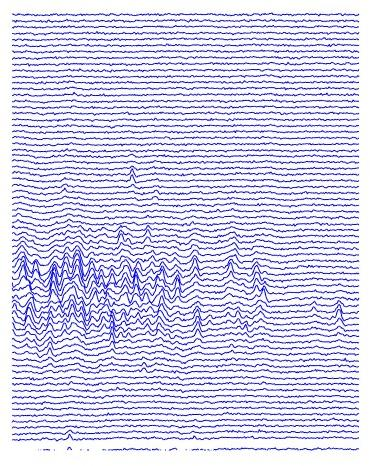defect: (153, 261, 171, 342), (247, 253, 270, 302), (63, 295, 88, 338), (47, 254, 58, 345), (87, 258, 110, 301), (102, 304, 119, 354), (189, 299, 208, 343), (224, 230, 241, 278), (24, 288, 36, 342), (185, 248, 204, 282), (231, 306, 249, 341), (326, 296, 346, 325), (71, 244, 83, 289), (18, 249, 31, 289), (130, 261, 143, 300), (118, 260, 130, 302), (171, 272, 186, 303), (252, 303, 267, 330), (30, 255, 43, 283), (112, 222, 129, 242), (125, 165, 139, 187), (61, 247, 68, 288), (138, 223, 152, 243), (139, 354, 147, 380)
